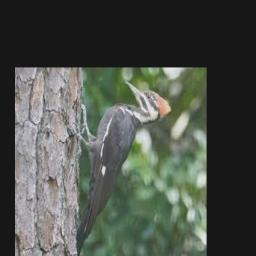Woodpecker: (75, 81, 172, 256)
